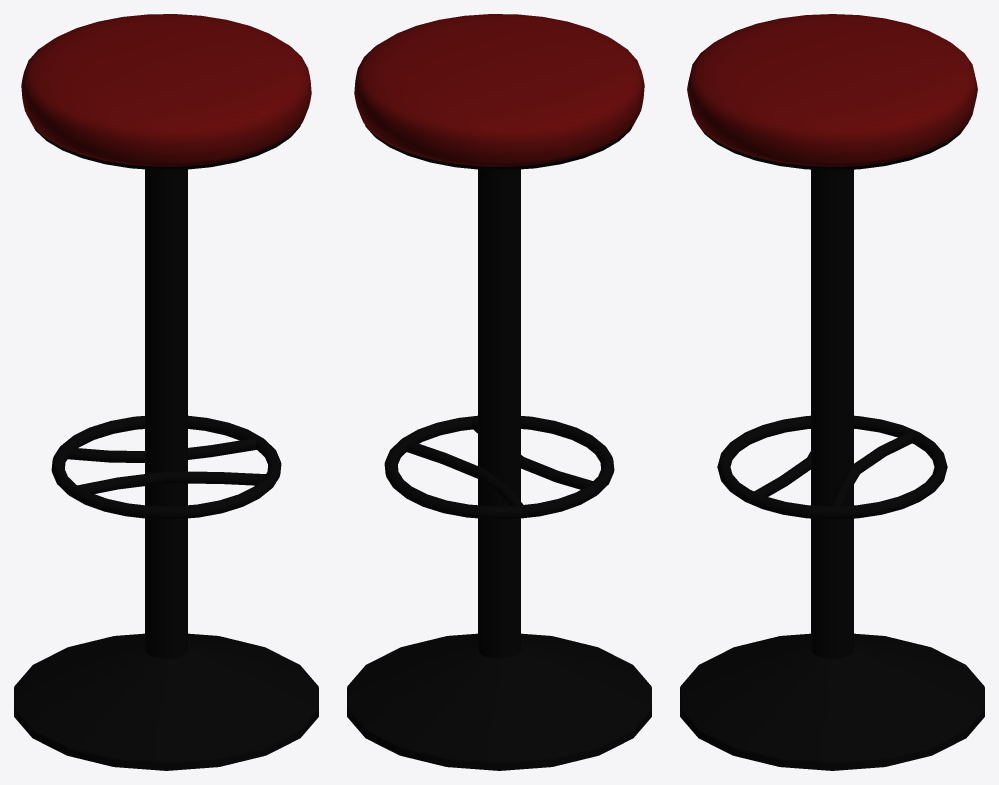
Rendered from Bar_chair.FBX.
3 views of the same model, side by side, from view 1: azimuth 30°, elevation 25°; view 2: azimuth 150°, elevation 25°; view 3: azimuth 270°, elevation 25° (orthographic).
Visible parts, largest first — view 1: ChamferCyl147, Cylinder685, Cylinder684, Circle013, Cylinder688, Cylinder686, bottom001; view 2: ChamferCyl147, Cylinder685, Cylinder684, Circle013, Cylinder686, bottom001, Cylinder688; view 3: ChamferCyl147, Cylinder685, Cylinder684, Circle013, Cylinder686, bottom001, Cylinder688.
Boxes of the visible parts, x1,y1,x2,y2 form: ChamferCyl147: (21,14,311,166); Cylinder685: (14,633,318,770); Cylinder684: (145,169,187,658); Circle013: (51,415,281,519); Cylinder688: (77,471,267,493); Cylinder686: (66,438,257,462); bottom001: (33,125,300,170); ChamferCyl147: (354,14,644,166); Cylinder685: (347,633,651,770); Cylinder684: (478,169,520,658); Circle013: (384,415,614,519); Cylinder686: (406,440,523,505); bottom001: (365,125,632,170); Cylinder688: (471,418,593,489); ChamferCyl147: (687,14,977,166); Cylinder685: (680,633,984,770); Cylinder684: (811,169,853,658); Circle013: (717,415,947,519); Cylinder686: (831,432,912,506); bottom001: (696,122,968,170); Cylinder688: (754,451,810,496).
Bounding box in the file's own units: 35.27 × 81.37 × 34.74.
